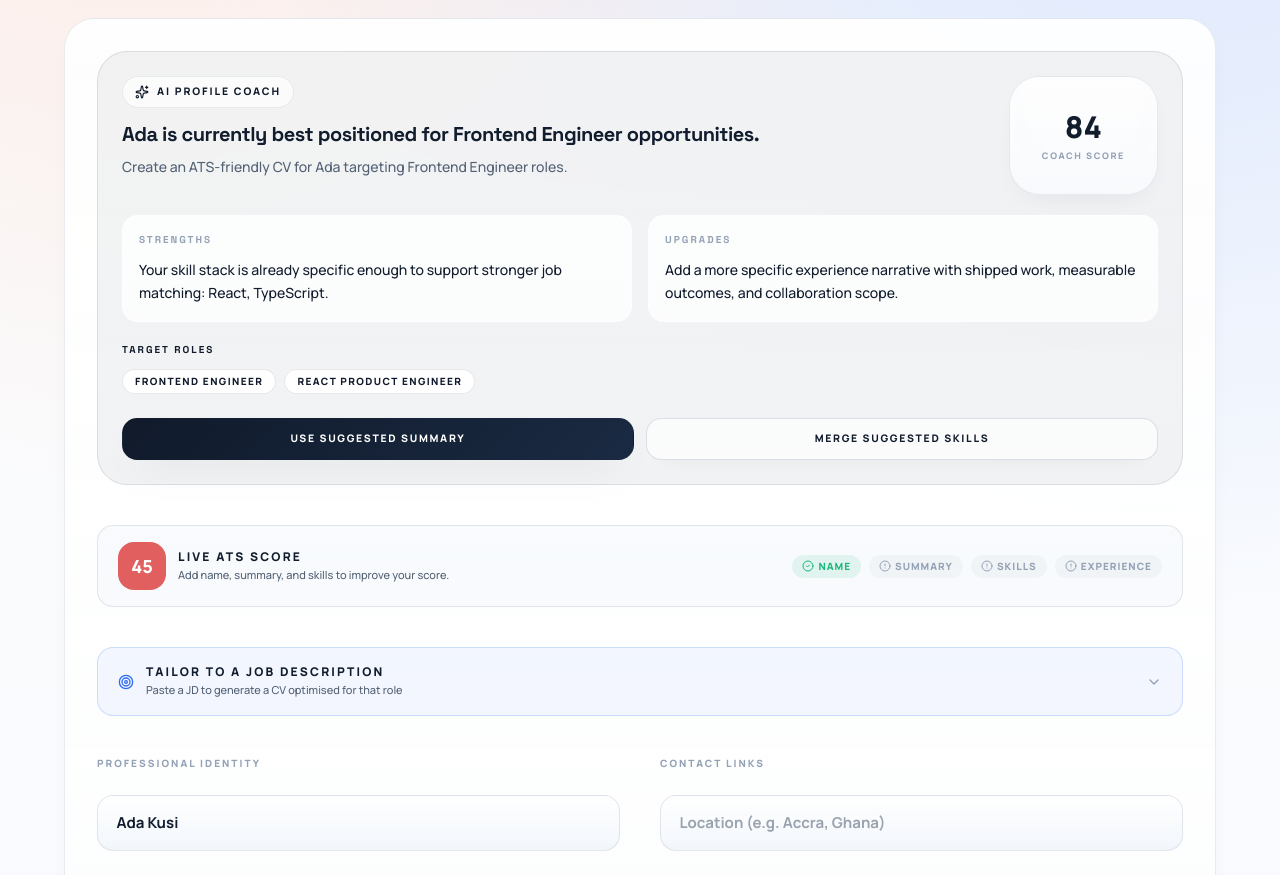
Test: CVGenerator seeker coaching flow › loads seeker coaching and applies the suggested summary and skills to the form
(page scrolled)
Expected: the text "AI profile coach" is shown, left=122, top=76, right=294, bottom=108
Expected: the text "84" is shown, left=1065, top=106, right=1102, bottom=147
What coordinates should you click on to do the following:
click the button "Use Suggested Summary"
I would click on:
 (378, 439)
Its box is left=122, top=418, right=634, bottom=460.
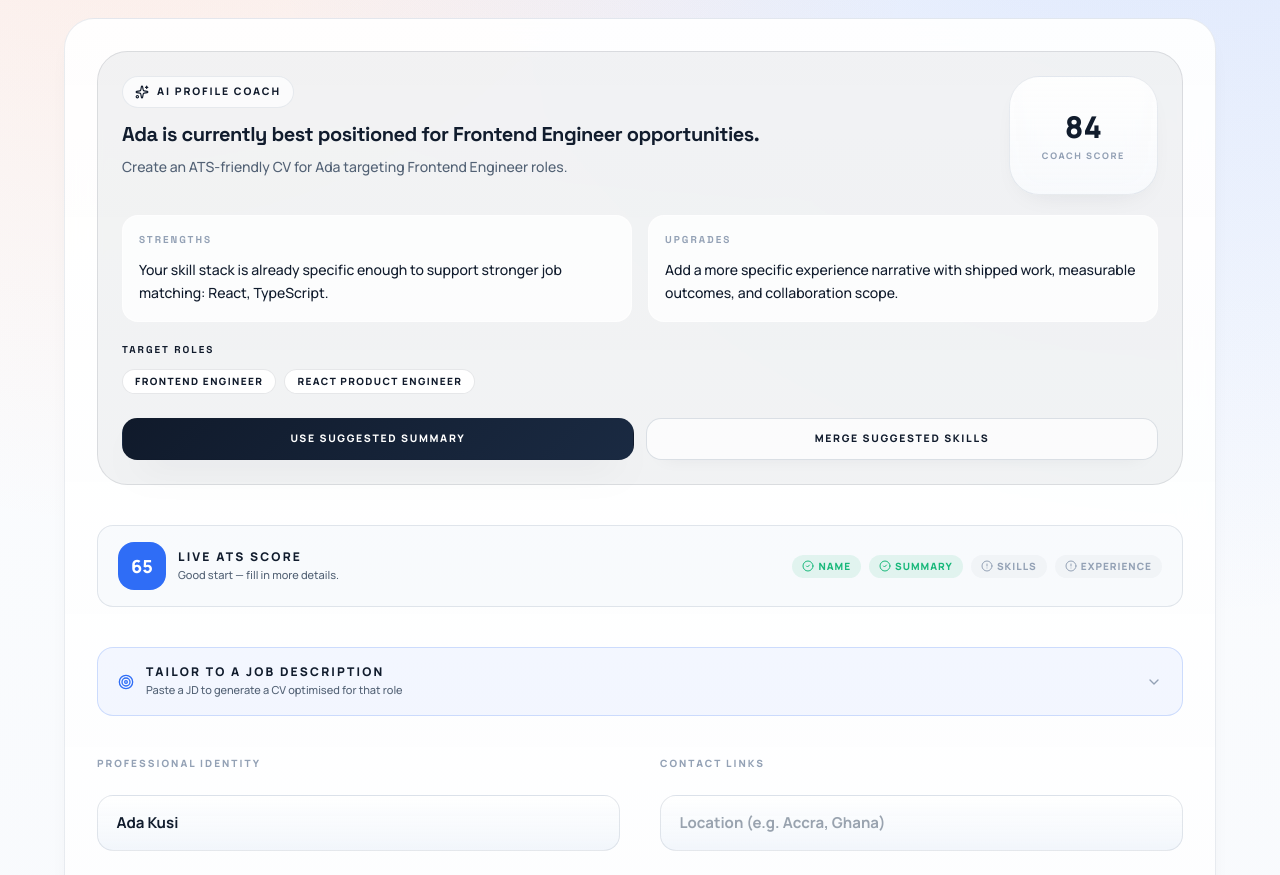
What coordinates should you click on to do the following:
click the button "Merge Suggested Skills"
I would click on:
 (902, 439)
Its box is left=646, top=418, right=1158, bottom=460.
(page scrolled)
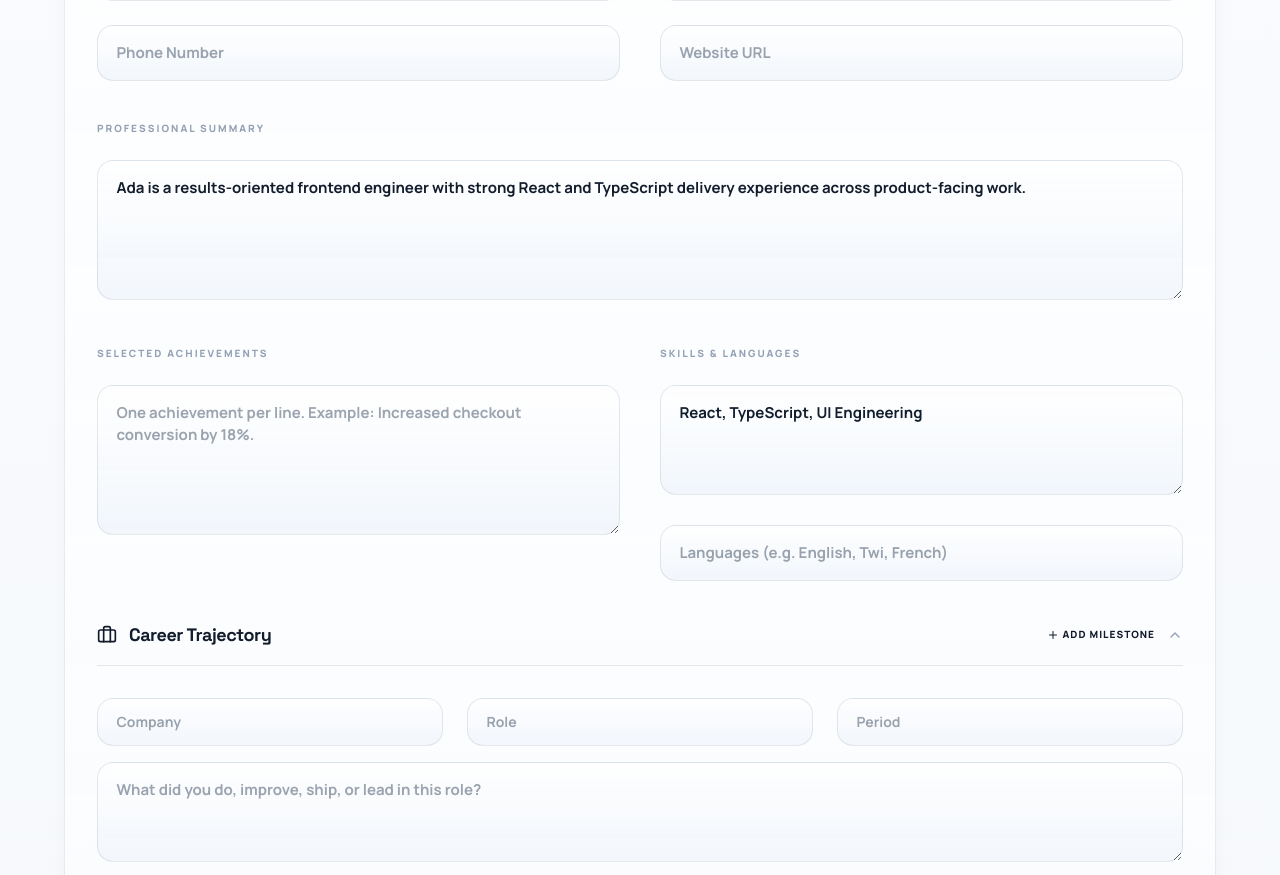
Expected: the text box showing "React, TypeScript, UI Engineering" below "Skills & Languages" is shown, left=660, top=385, right=1183, bottom=495
